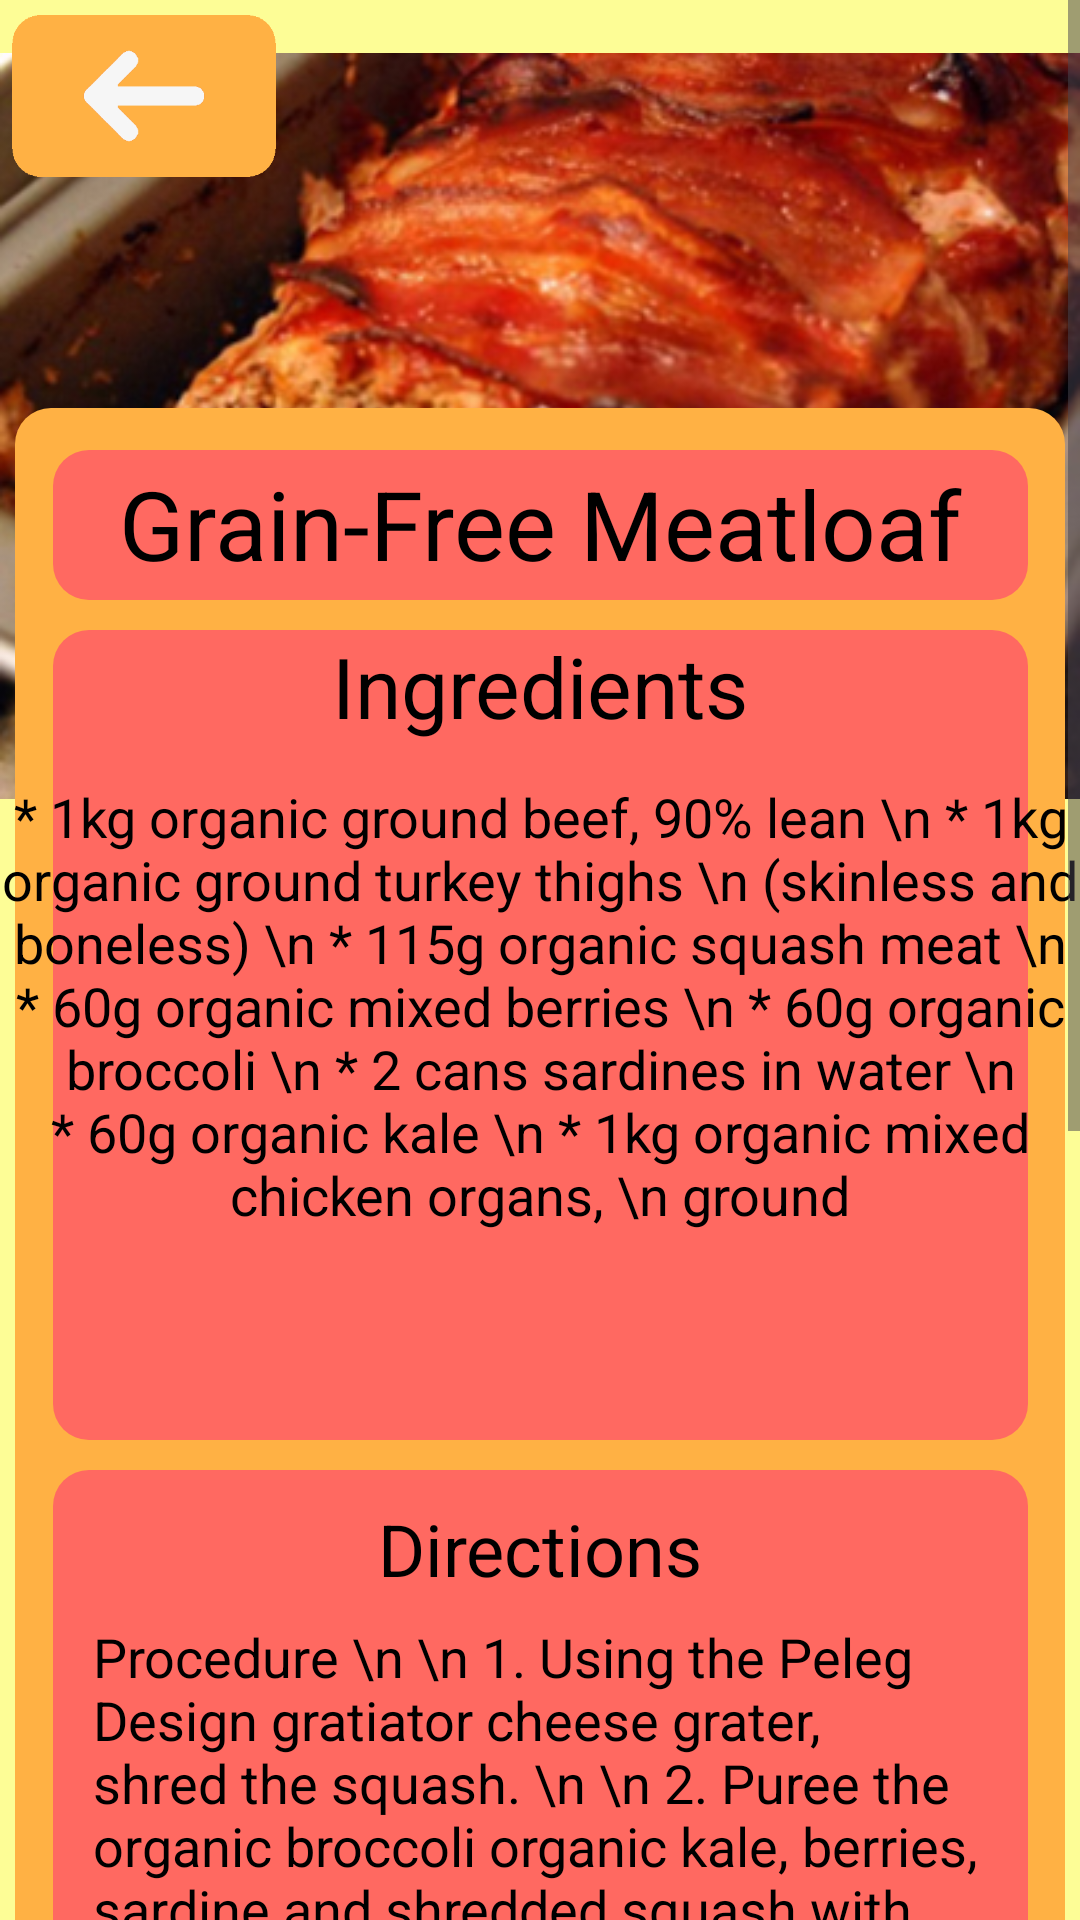

Screen size 1080px x 1920px. Icon name, then its center in pixels as (x,y):
backred: (144,96)
